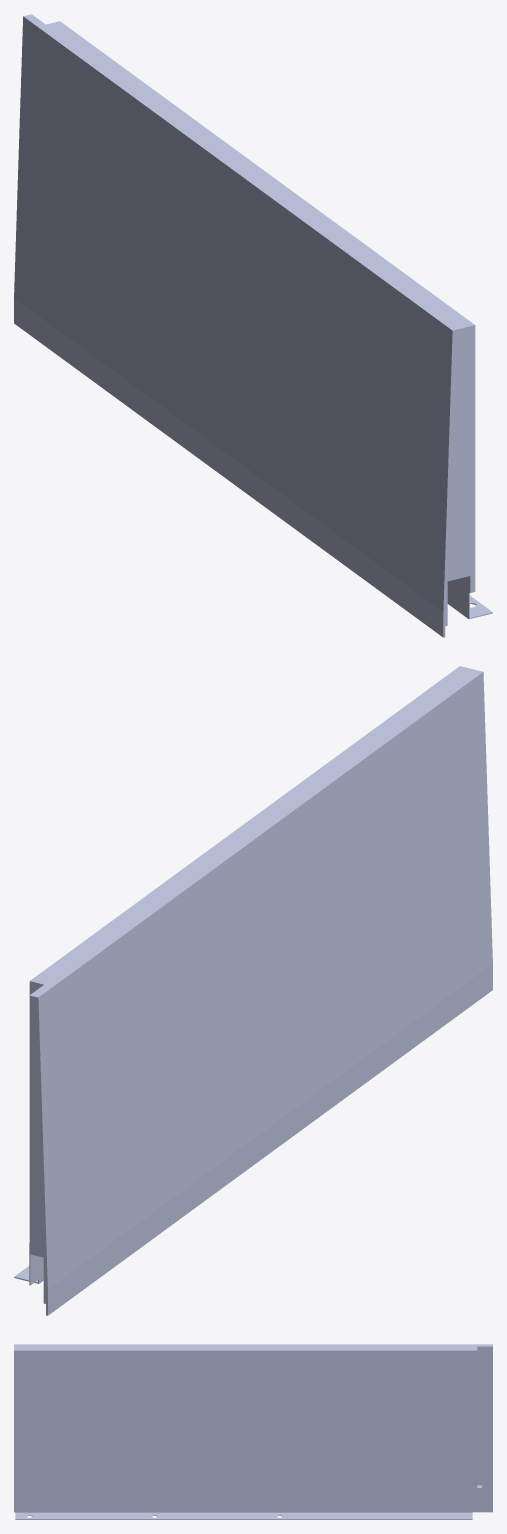
The model's file is mv-kava-E500-p.glb.
The picture shows the model from 3 angles, top to bottom: view 1: azimuth 30°, elevation 25°; view 2: azimuth 150°, elevation 25°; view 3: azimuth 270°, elevation 25°; orthographic projection. The views are drawn at different scales.
Visible parts, largest first — view 1: 45543321; view 2: 45543321; view 3: 45543321.
Boxes of the visible parts, x1,y1,x2,y2 form: 45543321: (14,14,492,637); 45543321: (14,666,492,1315); 45543321: (14,1344,492,1519).
Bounding box in the file's own units: 0.0335 × 0.192 × 0.4902.
